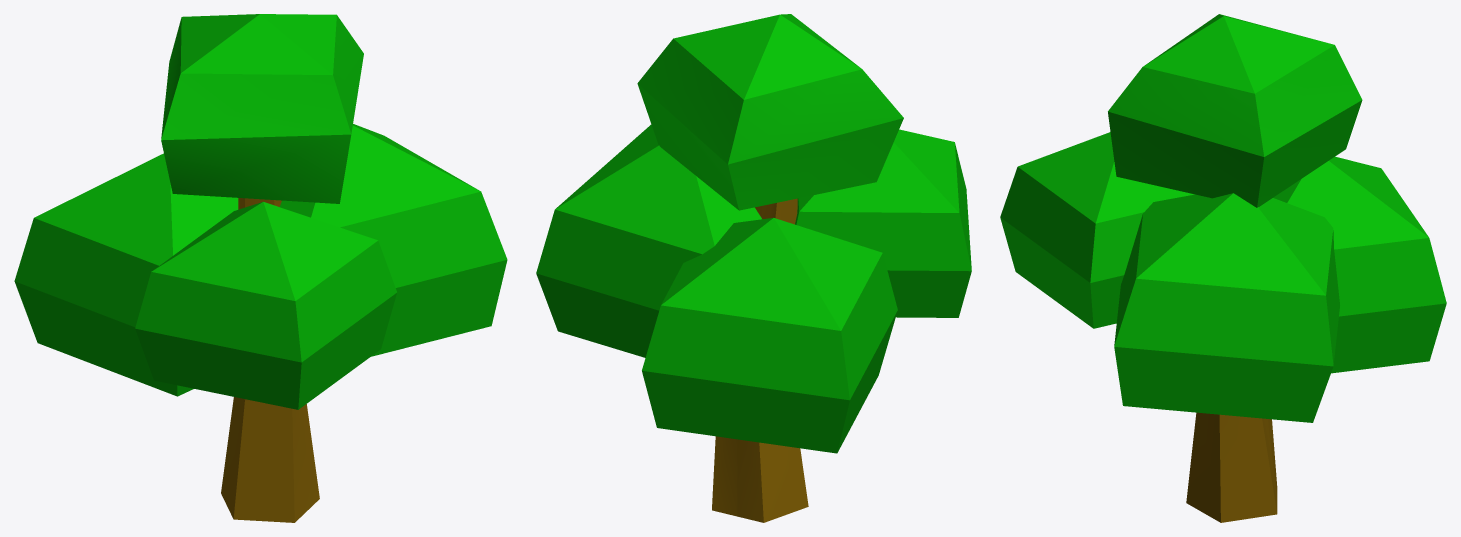
File: tree_generic_01.fbx
3 views of the same model, side by side, from view 1: azimuth 30°, elevation 25°; view 2: azimuth 150°, elevation 25°; view 3: azimuth 270°, elevation 25° (orthographic). The views are drawn at different scales.
Parts seen in each view (by area): view 1: tree; view 2: tree; view 3: tree.
Boxes of the visible parts, x1,y1,x2,y2 form: tree: [14, 14, 507, 522]; tree: [536, 14, 971, 522]; tree: [1000, 14, 1446, 522].
Bounding box in the file's own units: 53.14 × 71.66 × 60.45.
